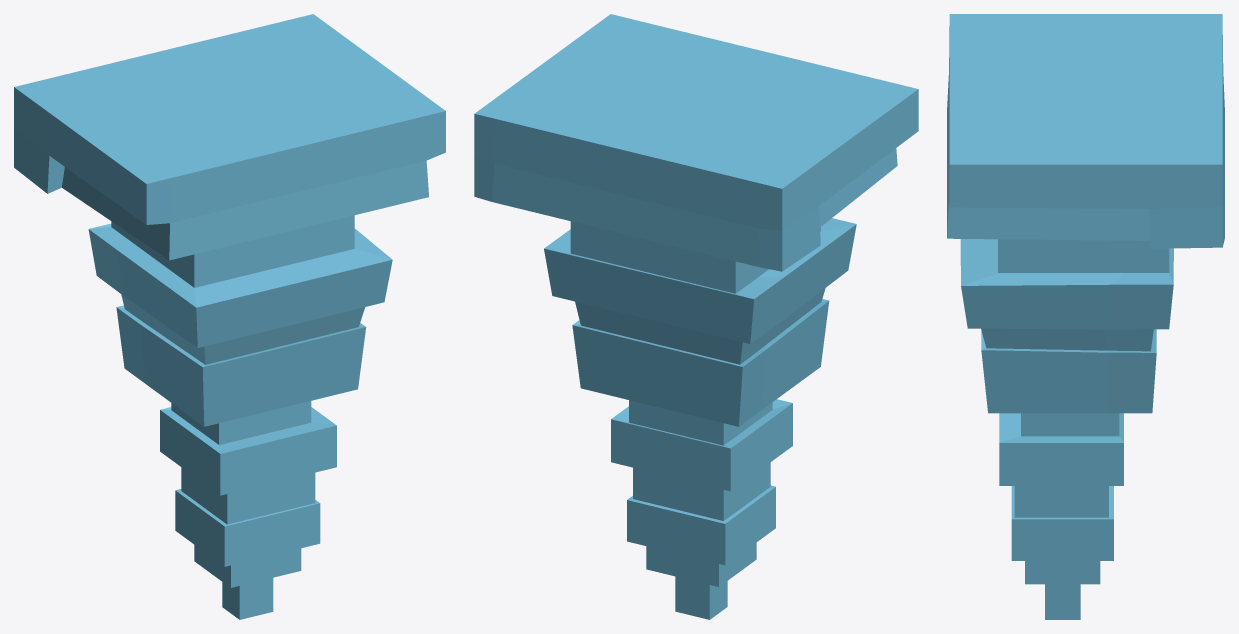
The model's file is island02.fbx.
3 views of the same model, side by side, from view 1: azimuth 30°, elevation 25°; view 2: azimuth 150°, elevation 25°; view 3: azimuth 270°, elevation 25° (orthographic). The views are drawn at different scales.
Visible parts, largest first — view 1: Cube.002; view 2: Cube.002; view 3: Cube.002.
Part boxes in pixels (x1,y1,x2,y2): Cube.002: [14, 14, 445, 619]; Cube.002: [474, 14, 918, 619]; Cube.002: [947, 14, 1224, 619].
Bounding box in the file's own units: 1253 × 1983 × 961.
